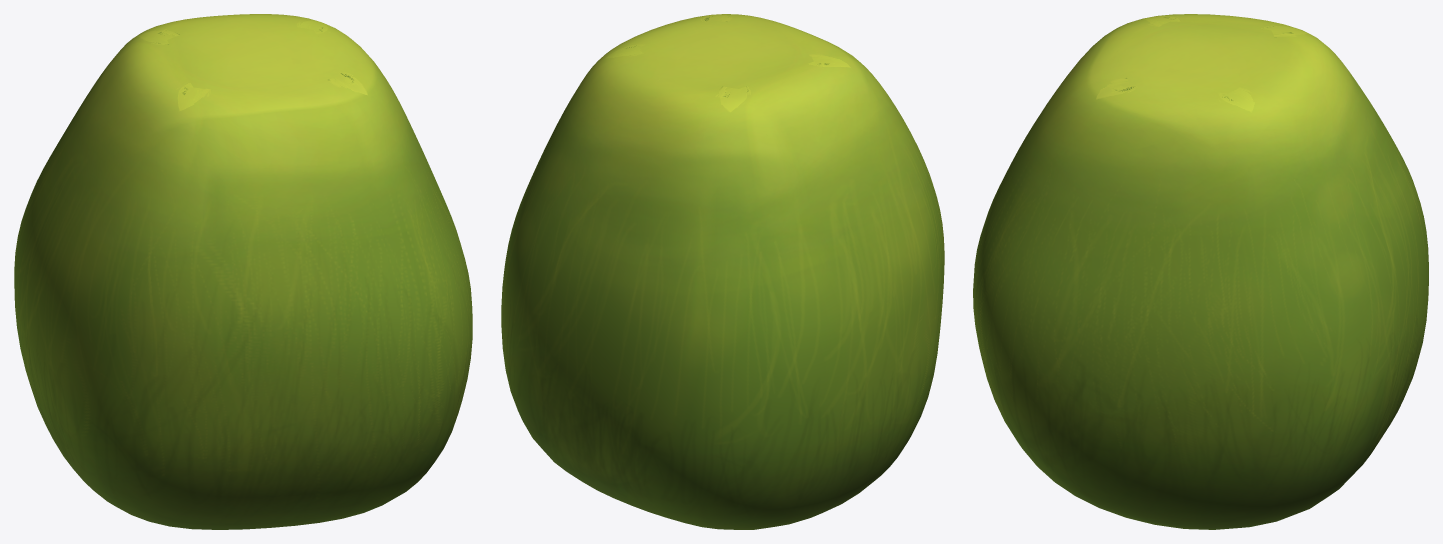
Rendered from coconut-single.glb.
3 renders of one model, left to right at view 1: azimuth 30°, elevation 25°; view 2: azimuth 150°, elevation 25°; view 3: azimuth 270°, elevation 25°, orthographic. The views are drawn at different scales.
Parts seen in each view (by area): view 1: Coconut; view 2: Coconut; view 3: Coconut.
Boxes of the visible parts, x1,y1,x2,y2 form: Coconut: (14, 14, 472, 529); Coconut: (501, 14, 944, 529); Coconut: (973, 14, 1428, 529).
Size of the model in its own units: 0.2717 by 0.3114 by 0.2917.
Materials: 1 (1 with a texture image).
